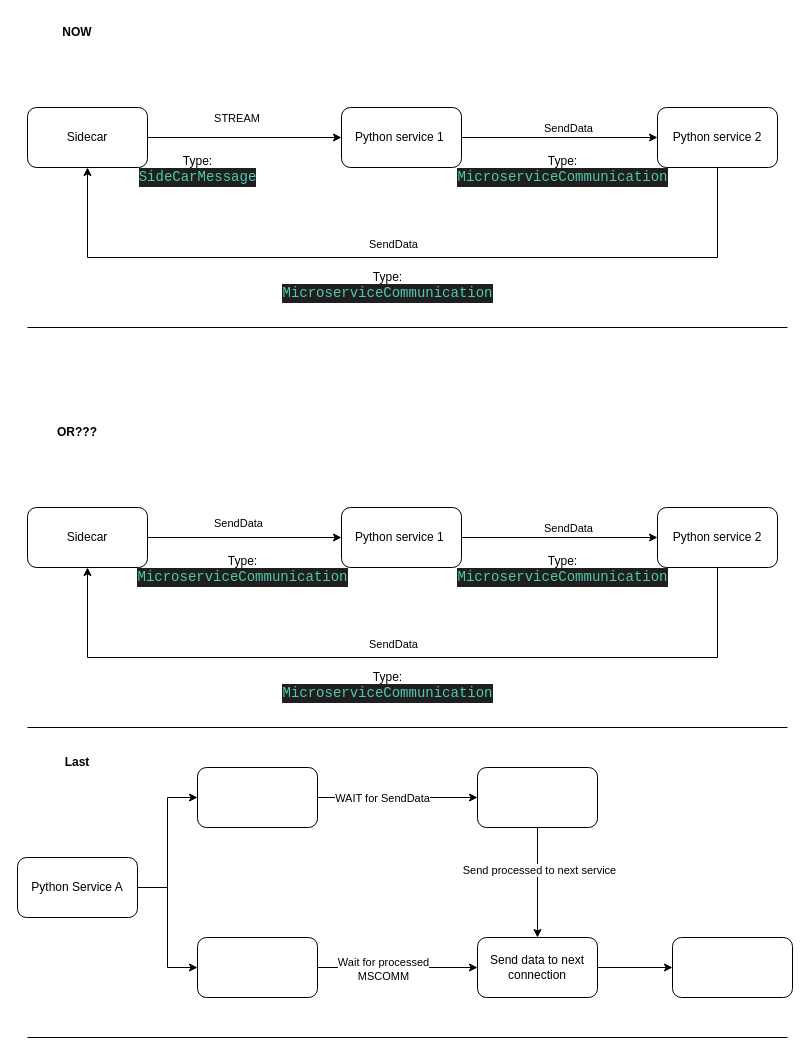
Image size: 810x1056. Some labels were removed from this diagram. The box of each missing label's shape, as (x1, y1, x2, y2) in pixels:
Create connection to next client: (196, 936, 318, 998)
Process MSCOMM: (476, 766, 598, 828)
Python Service B or sidecar: (672, 936, 792, 998)
Start GRPC server: (196, 766, 318, 828)
